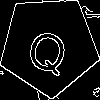Q: (24, 21, 72, 77)
